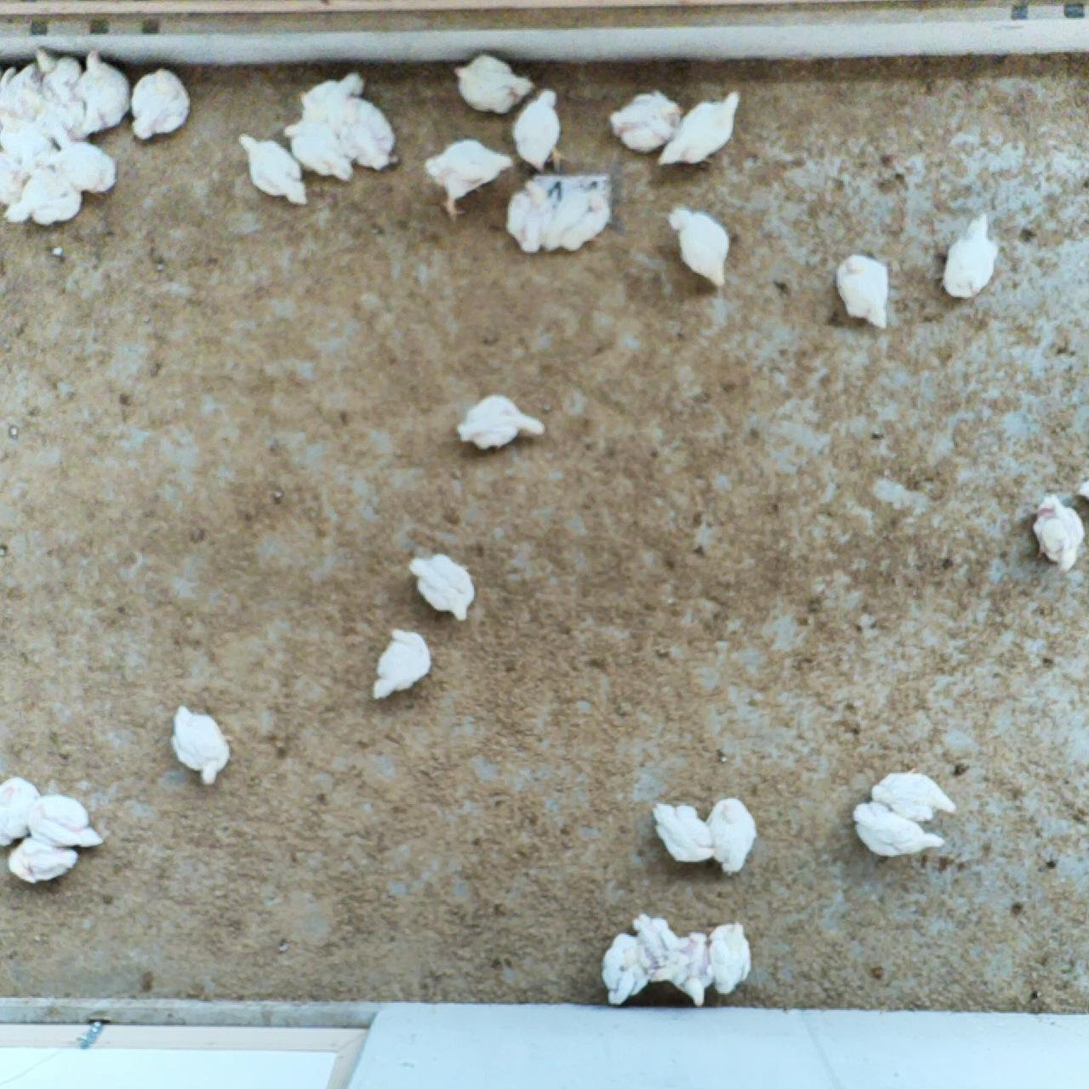chicken: (425, 136, 516, 220), (658, 92, 740, 170), (68, 50, 129, 135), (237, 134, 308, 207), (451, 54, 533, 117), (668, 207, 729, 291), (855, 800, 944, 857), (457, 394, 546, 449), (943, 213, 1000, 298), (170, 706, 231, 785), (510, 89, 567, 173), (610, 92, 683, 156), (334, 97, 397, 171), (870, 772, 959, 823), (4, 168, 82, 226), (27, 794, 105, 851), (130, 67, 191, 139), (410, 555, 476, 621), (373, 627, 432, 699), (283, 123, 352, 182), (836, 254, 889, 330), (632, 913, 687, 986), (1034, 496, 1086, 573), (13, 64, 66, 139), (651, 801, 713, 865), (704, 797, 755, 874), (602, 932, 655, 1002), (301, 73, 364, 131), (551, 190, 608, 251), (670, 932, 716, 1007), (7, 836, 79, 883), (37, 48, 88, 113), (54, 142, 116, 194), (509, 180, 551, 255), (1, 114, 54, 173), (1, 777, 43, 848), (708, 923, 750, 993), (1, 151, 28, 206), (1, 66, 23, 129)
